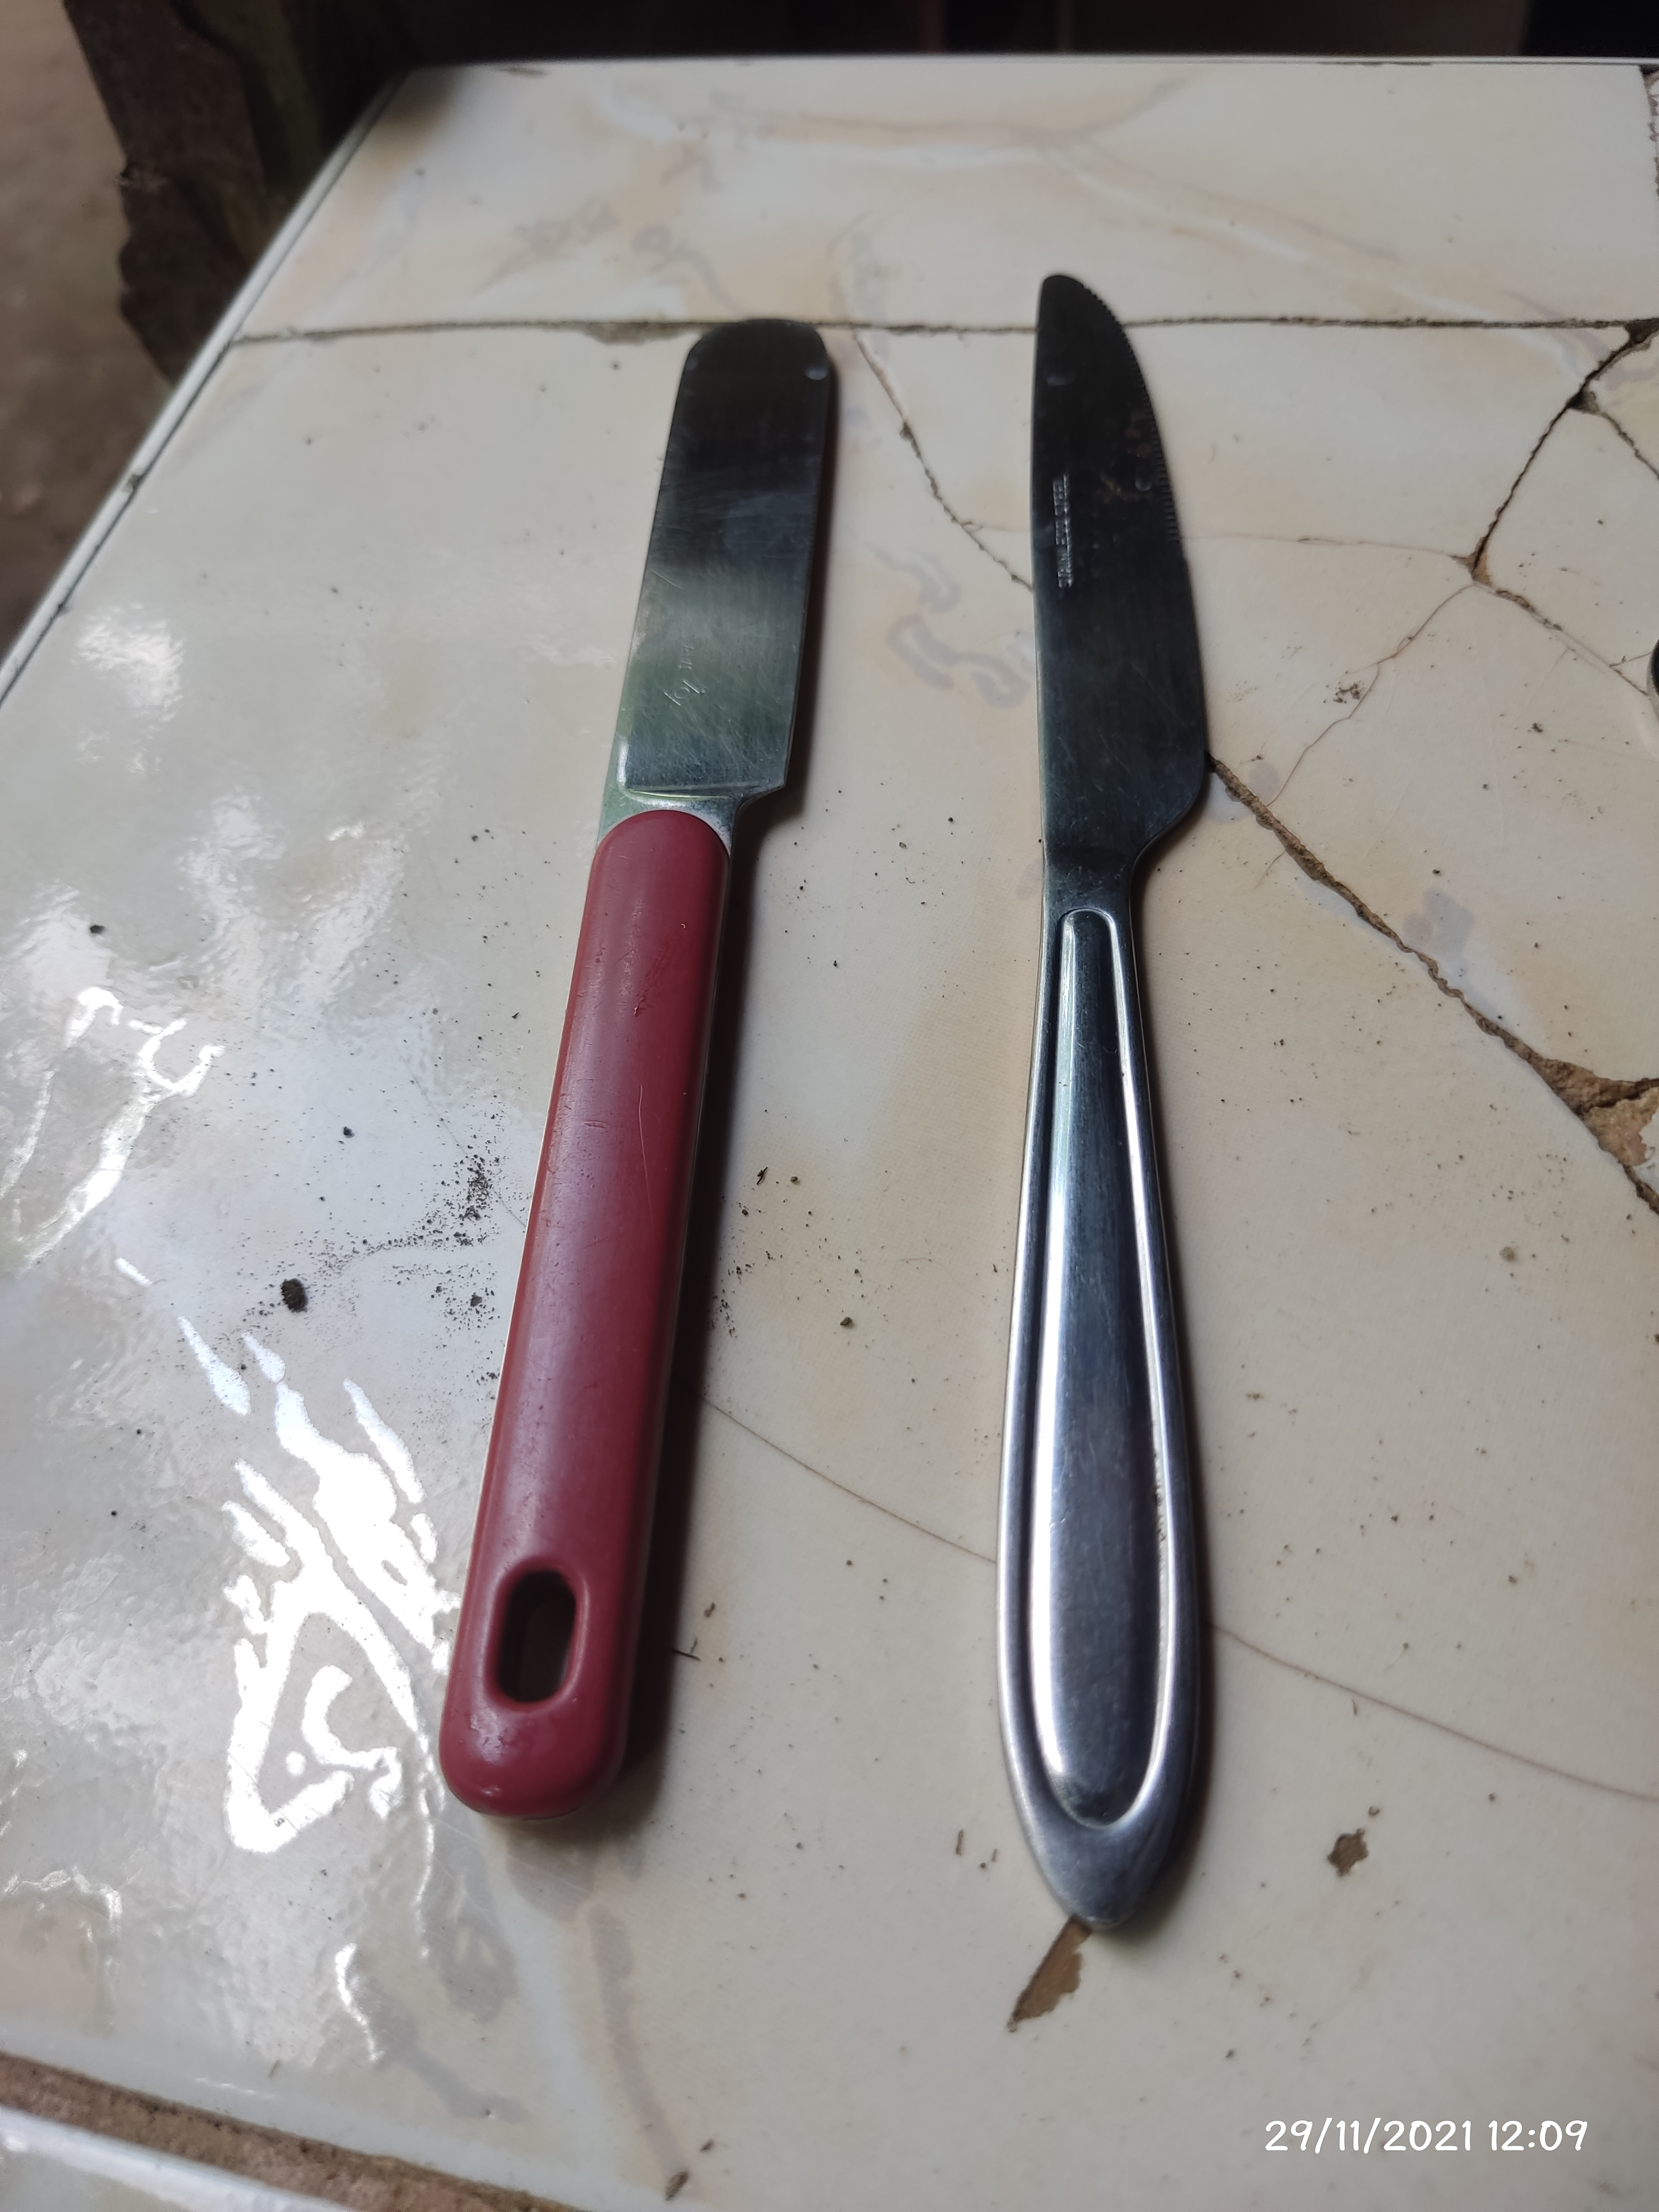knife: (992, 280, 1213, 1932)
